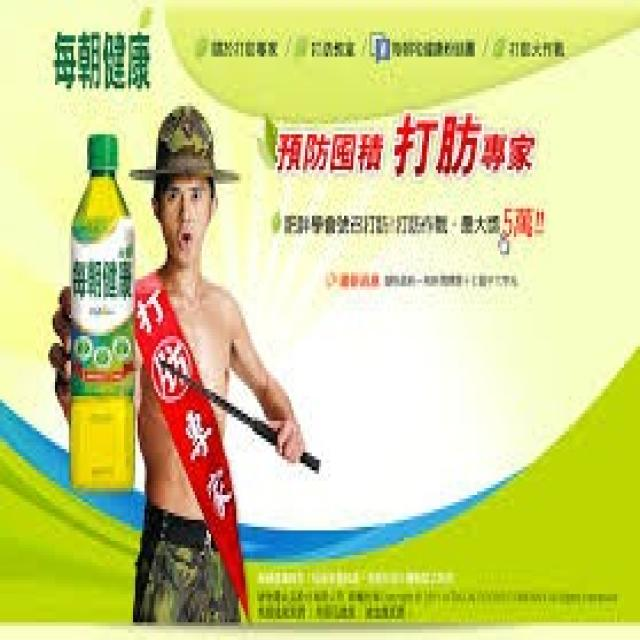MeiChou_GreenTea: (68, 124, 141, 498)
